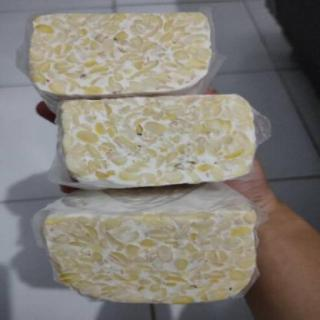Tempe: (21, 9, 262, 306)
